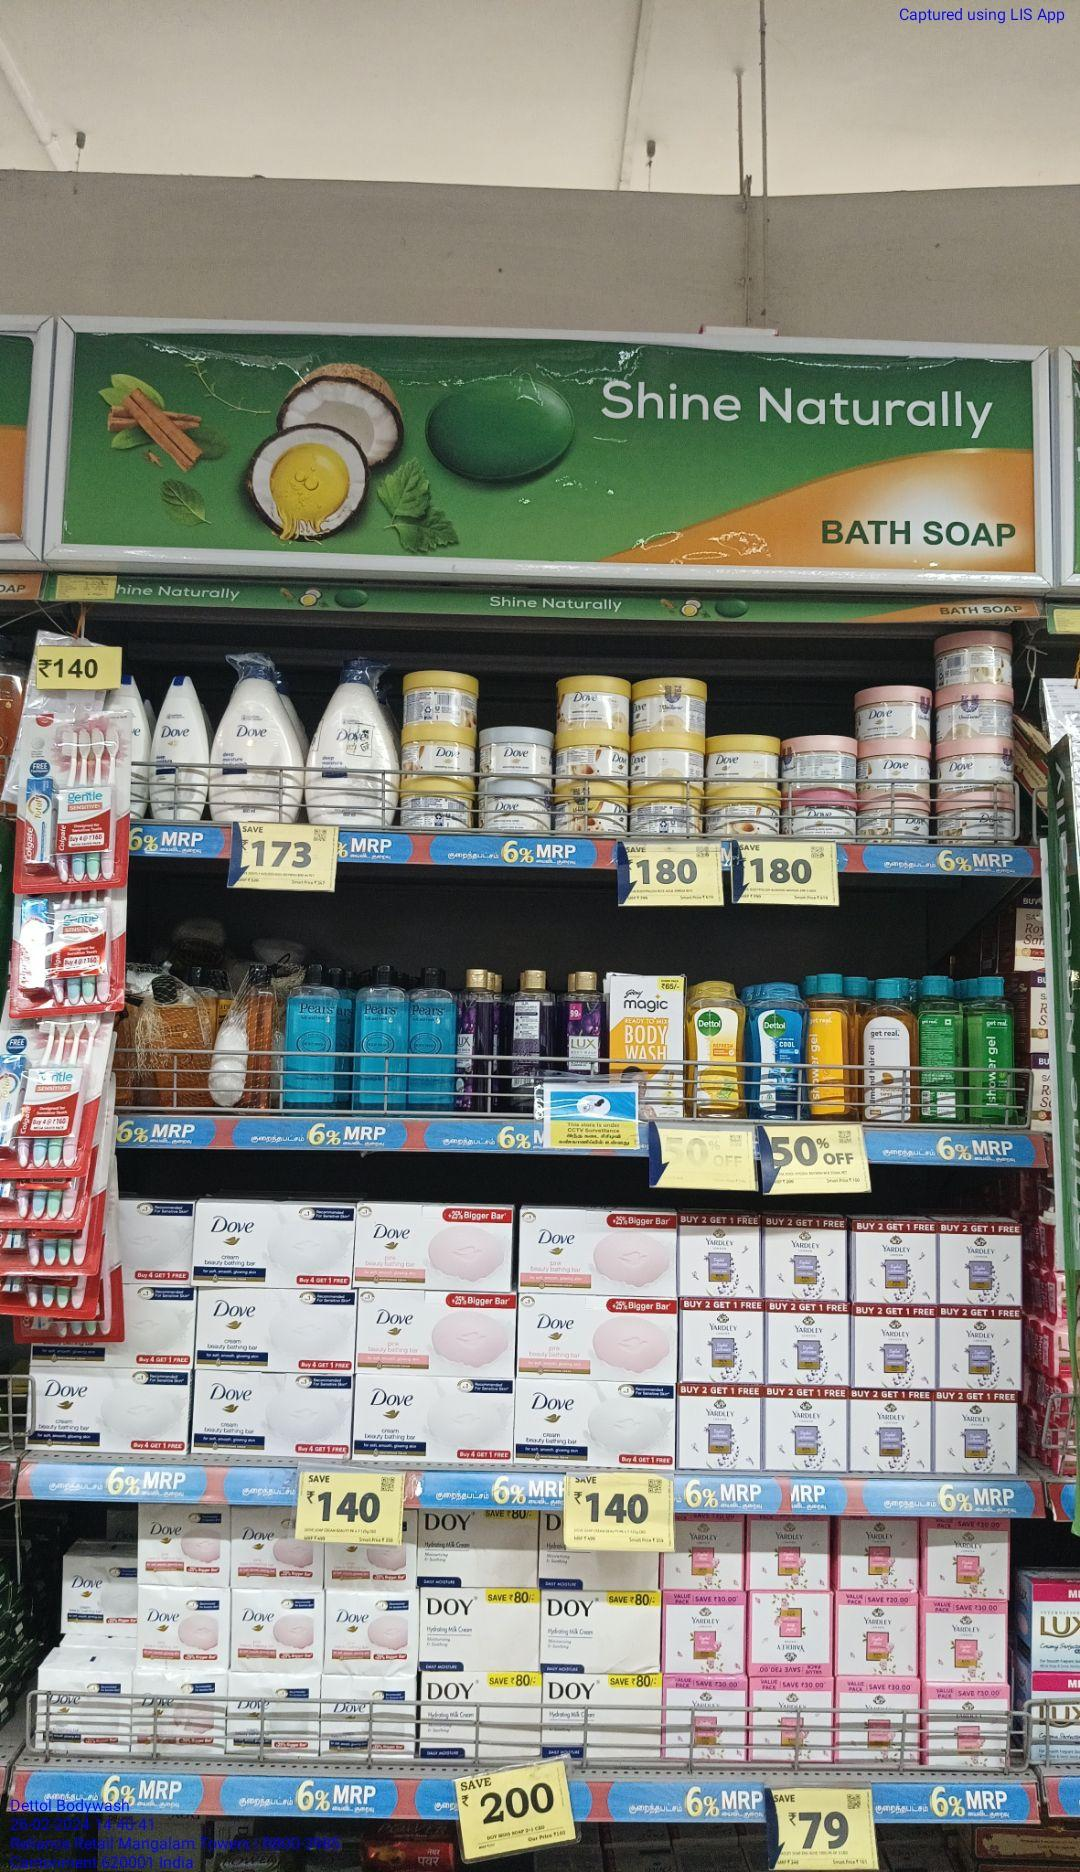Dettol_Bodywash_Cool: (747, 978, 809, 1117)
Dettol_Bodywash_Refresh: (688, 981, 747, 1119)
Lux_Black_Orchid_Scent_and_Juniper_Oil_Body_Wash_245ML: (561, 968, 604, 1075)
